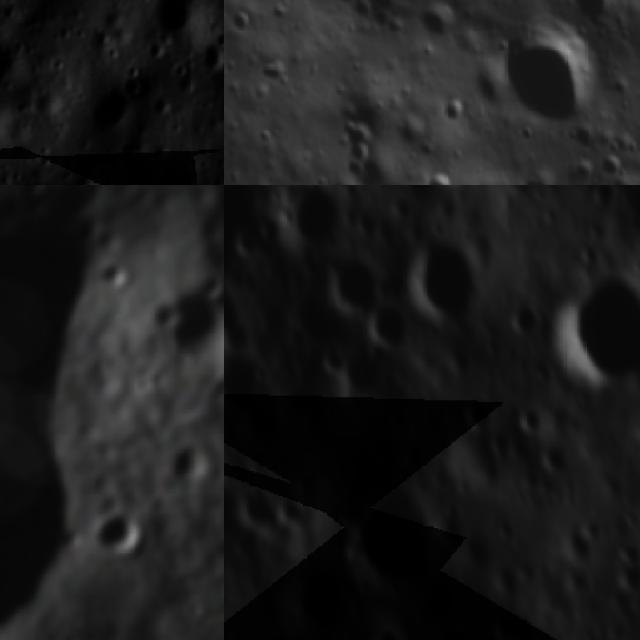crater: (473, 0, 615, 145), (544, 271, 640, 383), (349, 480, 437, 594), (152, 261, 224, 376), (406, 232, 484, 324), (280, 551, 357, 639), (278, 185, 352, 255), (329, 329, 397, 398), (82, 504, 153, 569), (288, 282, 348, 343), (160, 434, 223, 491), (404, 0, 472, 52), (322, 249, 378, 309), (550, 0, 628, 40), (224, 350, 269, 411), (360, 296, 409, 349), (449, 385, 503, 431), (234, 487, 281, 538), (497, 290, 544, 337), (224, 283, 257, 340), (245, 166, 337, 185), (418, 157, 478, 185), (491, 602, 534, 640), (516, 399, 554, 434), (100, 257, 134, 292), (539, 442, 573, 476), (422, 621, 479, 640), (366, 618, 403, 640), (327, 627, 376, 640)
